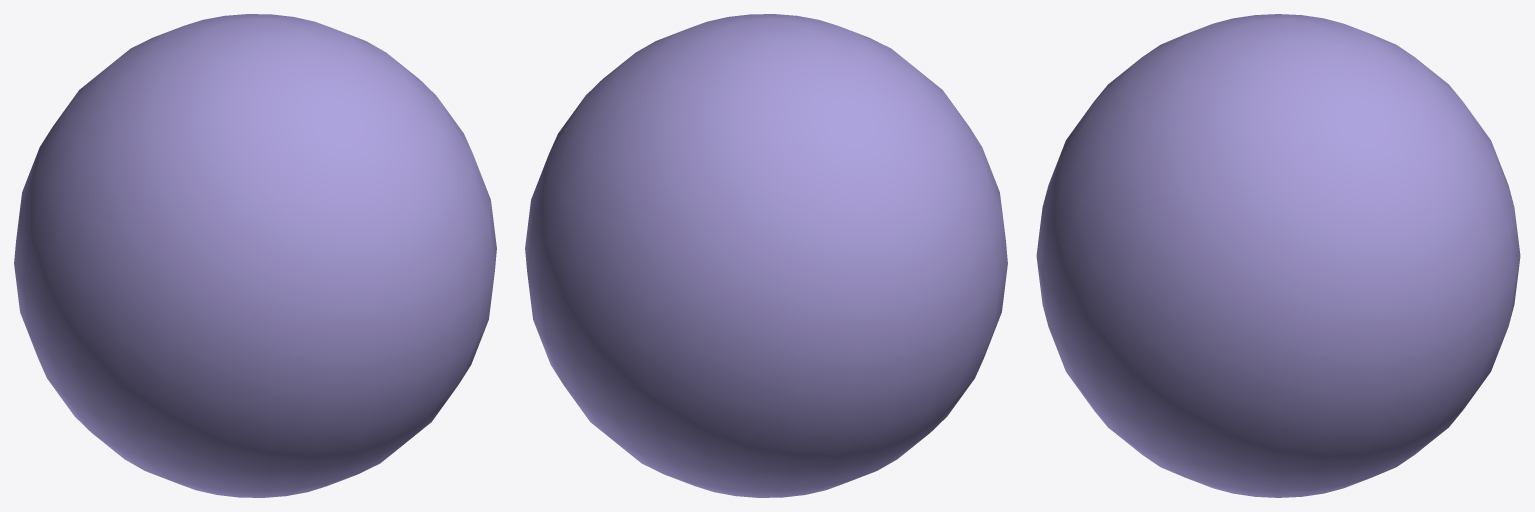
The model's file is SM_CrystalBall.glb.
3 renders of one model, left to right at view 1: azimuth 30°, elevation 25°; view 2: azimuth 150°, elevation 25°; view 3: azimuth 270°, elevation 25°, orthographic.
Visible parts, largest first — view 1: SM_CrystalBall; view 2: SM_CrystalBall; view 3: SM_CrystalBall.
Part boxes in pixels (bbox=[...]): SM_CrystalBall: bbox=[14, 14, 496, 497]; SM_CrystalBall: bbox=[525, 14, 1007, 497]; SM_CrystalBall: bbox=[1036, 14, 1520, 497].
Bounding box in the file's own units: 0.26 × 0.26 × 0.26.
